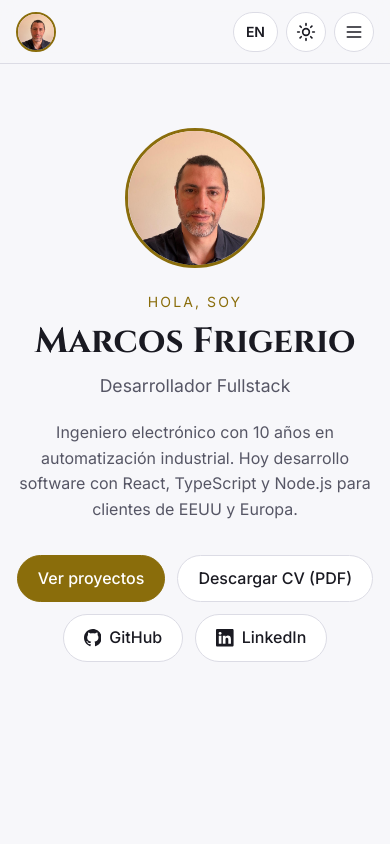
it: App › abre y cierra el menu movil
This screenshot has width=390, height=844.
Click the button named "Abrir menú": (354, 32) [334,12,374,52]
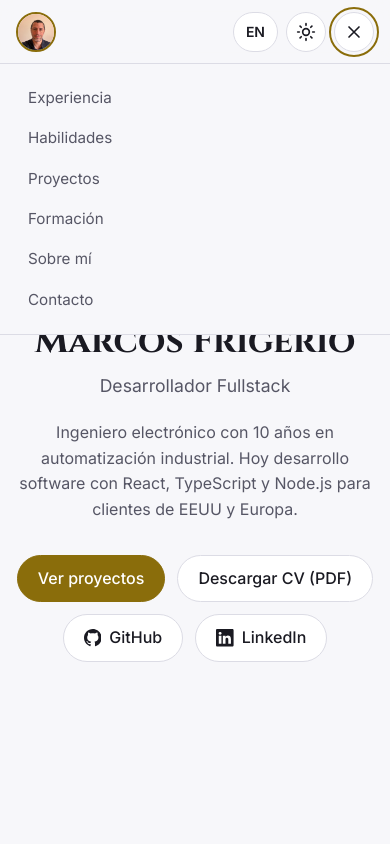
Check: the button named "Cerrar menú" is expanded, box [334,12,374,52]
Press Escape
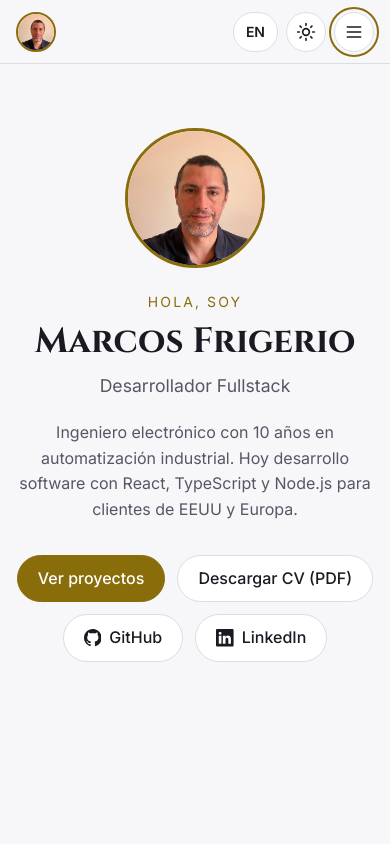
Check: the button named "Abrir menú" is shown, box [334,12,374,52]
